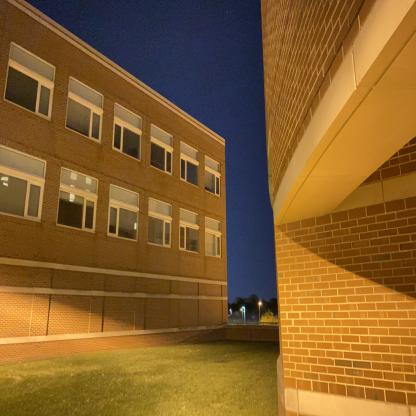eb2: (4, 20, 233, 334)
